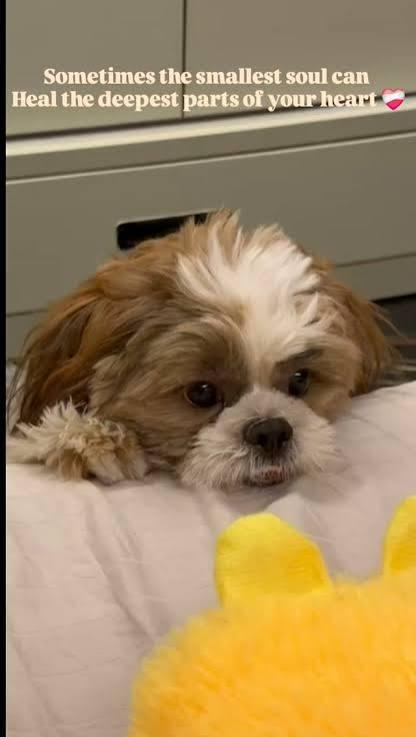puppy-dog: (7, 202, 405, 497)
